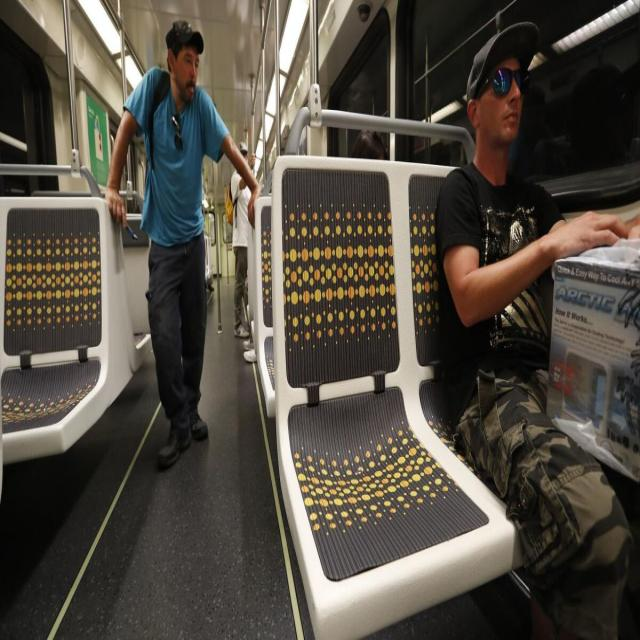empty-seat-frontal: (271, 109, 524, 638)
